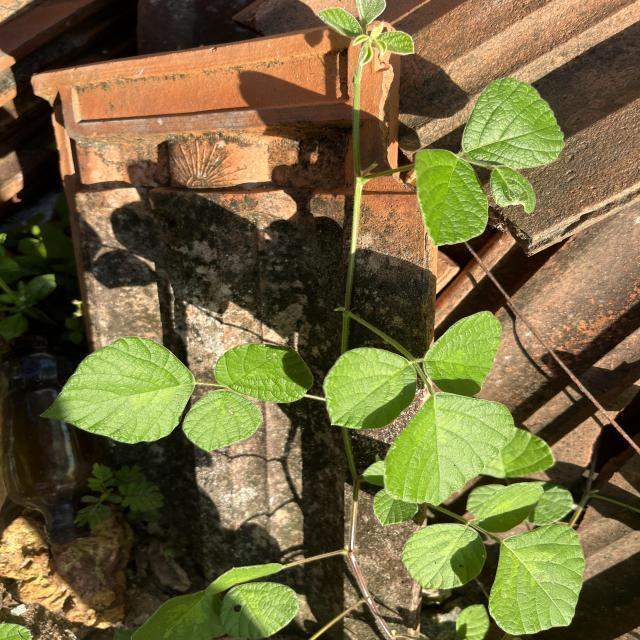Pseudarthria viscida: (321, 308, 517, 508), (36, 334, 316, 454), (400, 480, 587, 638)
